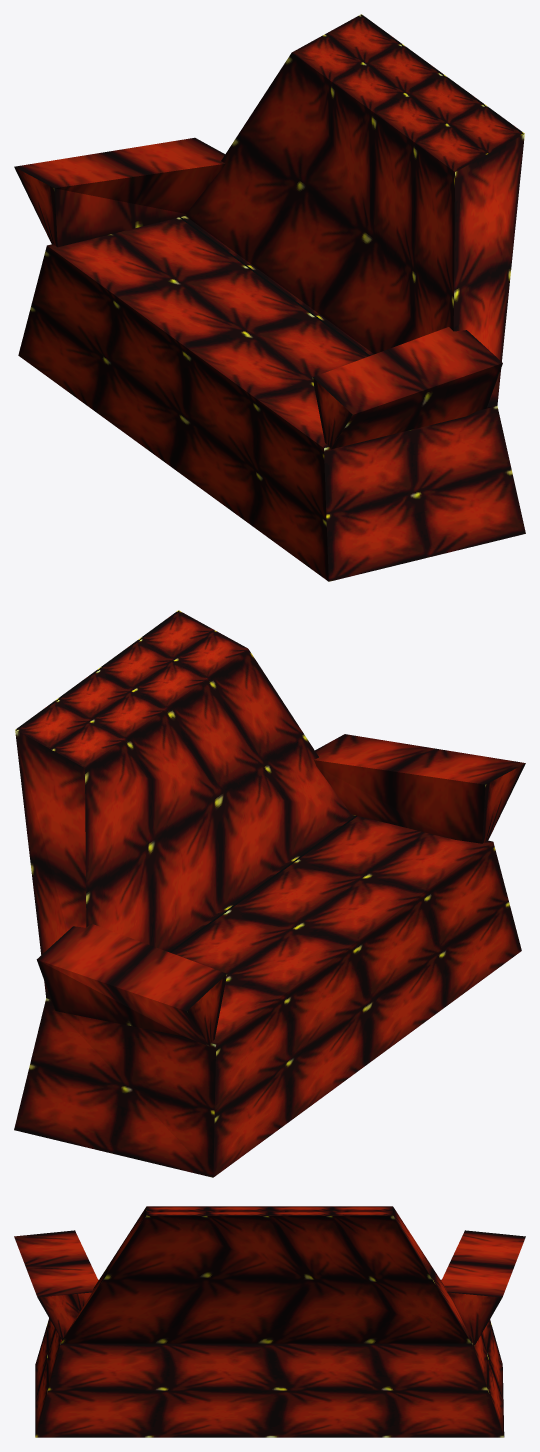
Rendered from Couch_2[Rot]_2088.glb.
The picture shows the model from 3 angles, top to bottom: view 1: azimuth 30°, elevation 25°; view 2: azimuth 150°, elevation 25°; view 3: azimuth 270°, elevation 25°; orthographic projection. The views are drawn at different scales.
Visible parts, largest first — view 1: pPlaneShape1, pPlaneShape2, pCylinderShape73, pCylinderShape74, pPlaneShape4, pPlaneShape6, pPlaneShape8; view 2: pPlaneShape1, pPlaneShape3, pCylinderShape73, pCylinderShape74, pPlaneShape5, pPlaneShape8, pPlaneShape6; view 3: pPlaneShape1, pCylinderShape74, pCylinderShape73, pPlaneShape3, pPlaneShape2, pPlaneShape7, pPlaneShape9, pPlaneShape5, pPlaneShape4.
Boxes of the visible parts, x1,y1,x2,y2 form: pPlaneShape1: (18, 14, 524, 581); pPlaneShape2: (324, 406, 525, 581); pCylinderShape73: (313, 327, 502, 449); pCylinderShape74: (14, 137, 225, 247); pPlaneShape4: (453, 134, 524, 407); pPlaneShape6: (14, 167, 57, 246); pPlaneShape8: (312, 377, 352, 448); pPlaneShape1: (15, 610, 521, 1177); pPlaneShape3: (14, 998, 215, 1177); pCylinderShape73: (314, 734, 525, 843); pCylinderShape74: (36, 923, 226, 1045); pPlaneShape5: (15, 730, 86, 999); pPlaneShape8: (482, 763, 525, 843); pPlaneShape6: (187, 974, 226, 1045); pPlaneShape1: (35, 1206, 503, 1437); pCylinderShape74: (441, 1230, 525, 1297); pCylinderShape73: (14, 1230, 98, 1297); pPlaneShape3: (472, 1319, 504, 1436); pPlaneShape2: (35, 1318, 60, 1436); pPlaneShape7: (447, 1292, 502, 1345); pPlaneShape9: (37, 1292, 91, 1339); pPlaneShape5: (393, 1207, 471, 1342); pPlaneShape4: (61, 1207, 146, 1342).
Bounding box in the file's own units: 0.159 × 0.1844 × 0.3448.
Materials: 11 (11 with a texture image).
